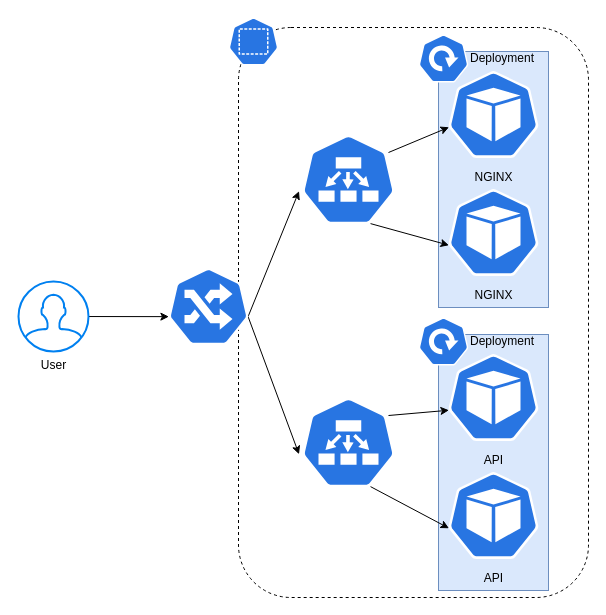
Image size: 606x615. Some labels were removed from this diagram. Here are the shapes that lost their labels. From the top down, the centre of each, then its label:
the point at 253,41: default namespace
the point at 348,179: NGINX Service
the point at 208,306: Ingress Controller
the point at 348,442: API Service
